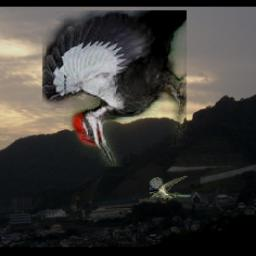Swallow: (150, 175, 191, 200)
Woodpecker: (41, 10, 185, 167)
